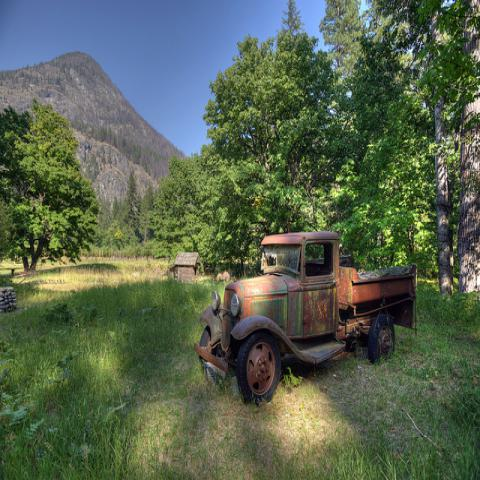truck: (189, 222, 423, 407)
